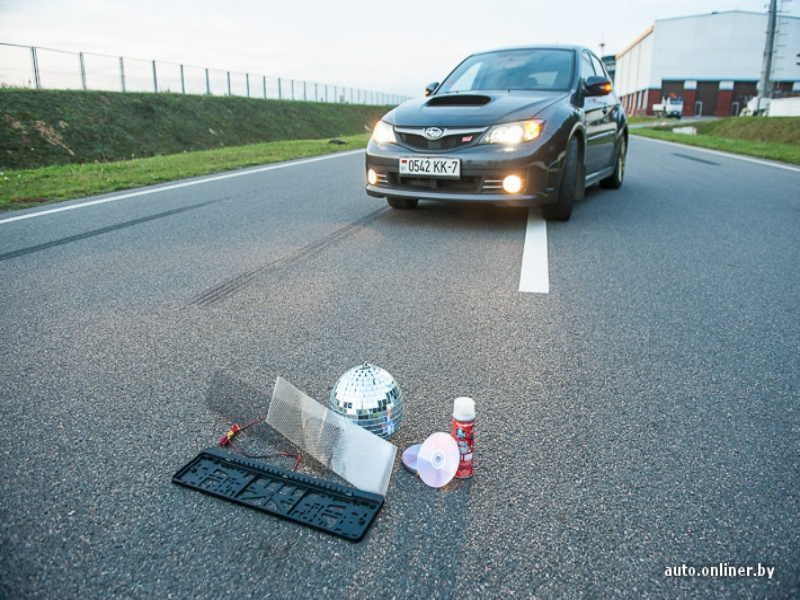car: (365, 47, 629, 221), (652, 95, 683, 118)
plate: (398, 156, 461, 178)
